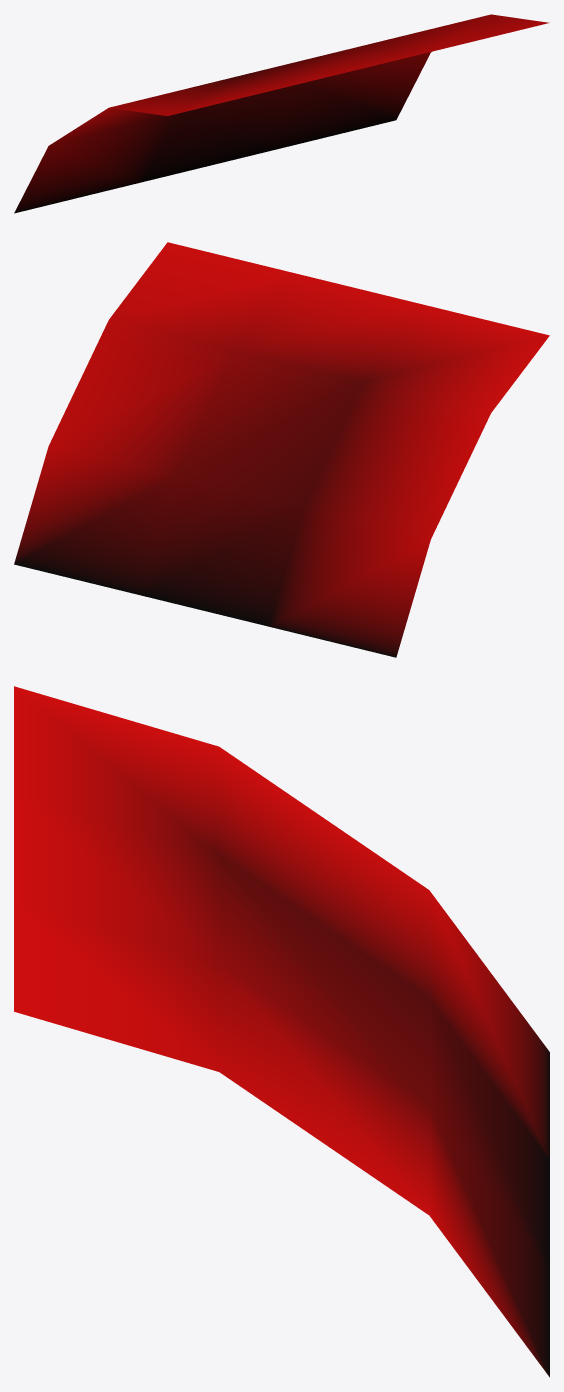
File: grass_plane_5.fbx
The picture shows the model from 3 angles, top to bottom: view 1: azimuth 30°, elevation 25°; view 2: azimuth 150°, elevation 25°; view 3: azimuth 270°, elevation 25°; orthographic projection. The views are drawn at different scales.
Visible parts, largest first — view 1: grass_plane_5; view 2: grass_plane_5; view 3: grass_plane_5.
Boxes of the visible parts, x1=… form: grass_plane_5: x1=14, y1=14, x2=549, y2=213; grass_plane_5: x1=14, y1=242, x2=549, y2=657; grass_plane_5: x1=14, y1=686, x2=549, y2=1377.
Bounding box in the file's own units: 1.41 × 0.7386 × 0.9802.
